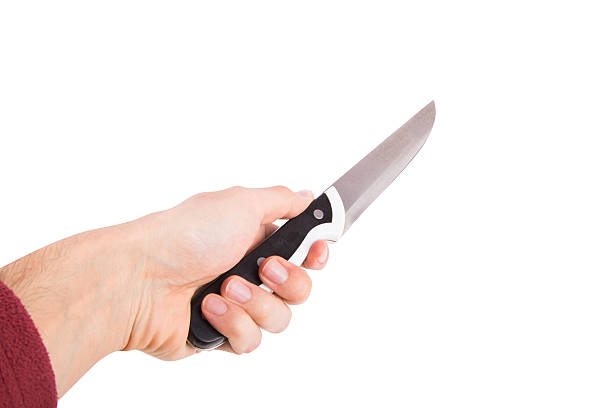knife: (185, 99, 438, 352)
